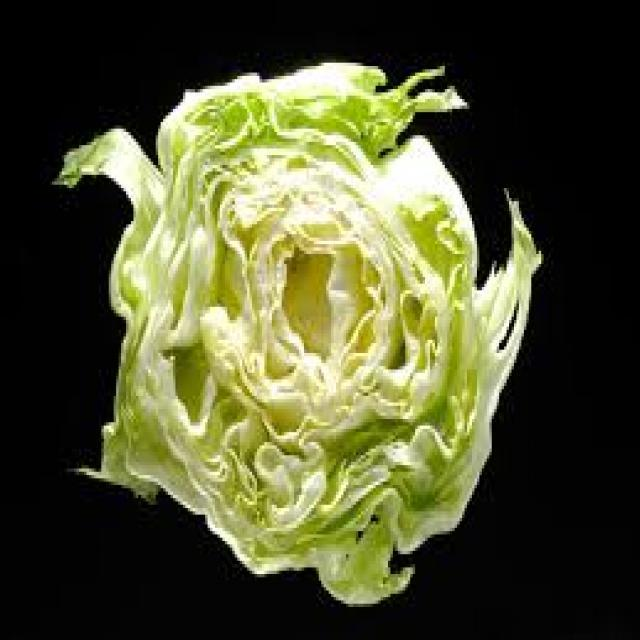Lettuce: (56, 60, 544, 606)
